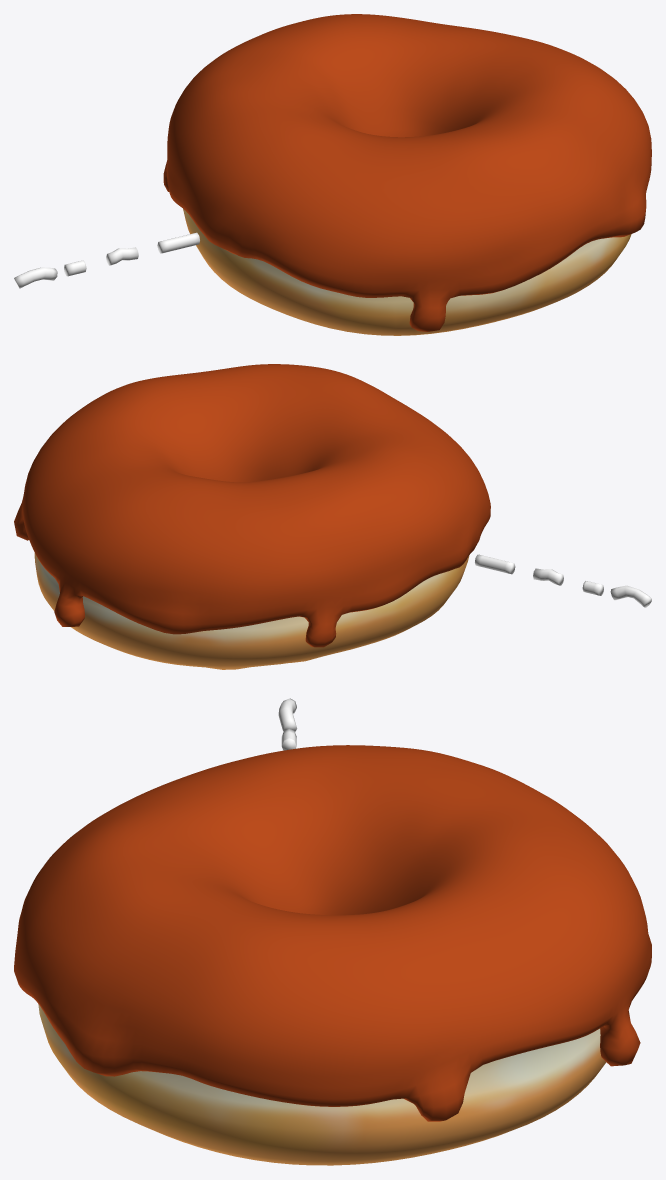
The model's file is Donut11_completed.glb.
3 views of the same model, one above another, from view 1: azimuth 30°, elevation 25°; view 2: azimuth 150°, elevation 25°; view 3: azimuth 270°, elevation 25° (orthographic). The views are drawn at different scales.
Parts seen in each view (by area): view 1: Icing, Donut, Sprinkle.003, Sprinkle; view 2: Icing, Donut, Sprinkle.003, Sprinkle; view 3: Icing, Donut.
Part boxes in pixels (x1,y1,x2,y2): Icing: (163, 14, 651, 331); Donut: (183, 209, 631, 335); Sprinkle.003: (14, 267, 57, 288); Sprinkle: (157, 232, 199, 253); Icing: (14, 364, 490, 647); Donut: (34, 553, 469, 669); Sprinkle.003: (610, 585, 651, 607); Sprinkle: (475, 554, 515, 574); Icing: (14, 745, 651, 1121); Donut: (38, 1004, 606, 1165).
Size of what is drawn, in the model's own units: 0.0647 by 0.0185 by 0.0452.
3 materials, 1 textured.
